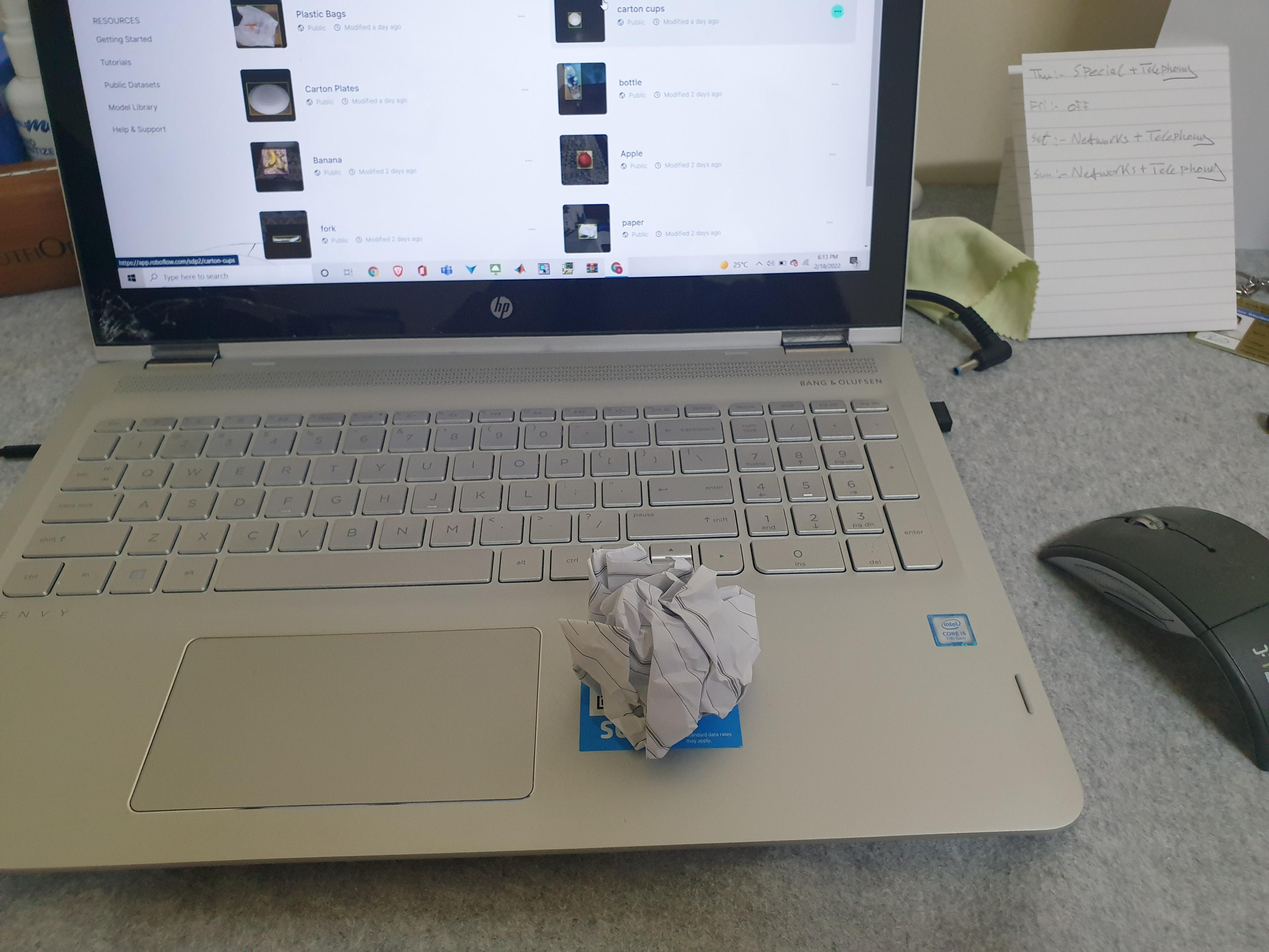paper: (532, 518, 778, 775)
